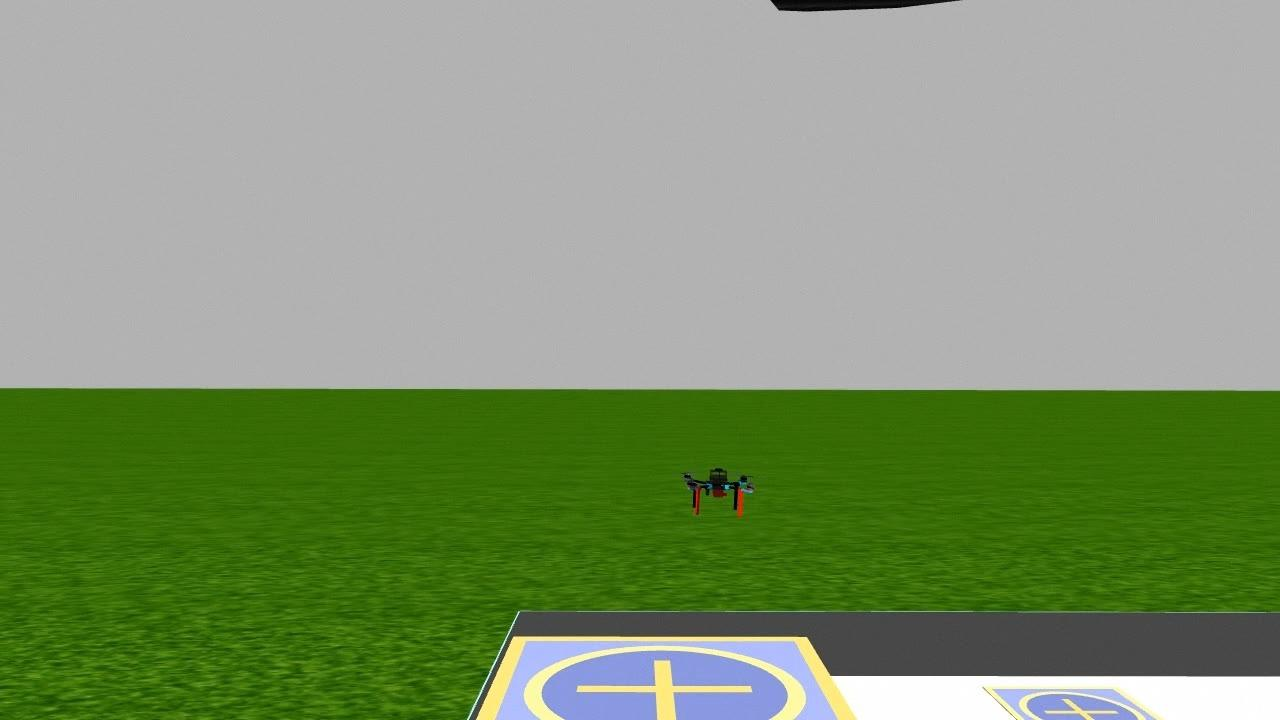UAV: (670, 452, 766, 534)
